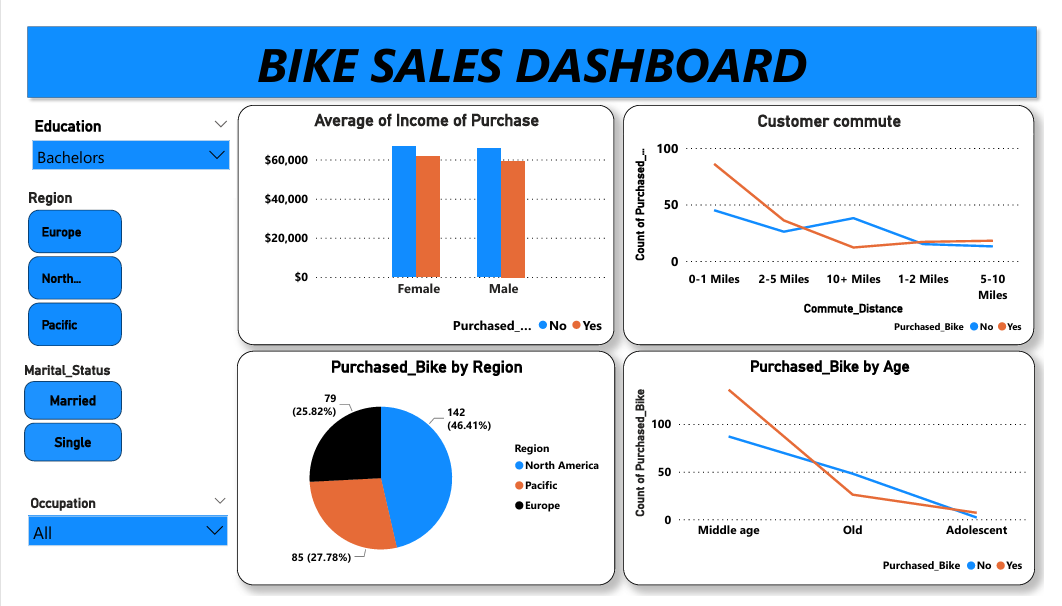

What the dashboard file says about the page in this screenshot:
{"tool":"powerbi","page":{"name":"Page 1","canvas":[1280,720],"ordinal":0},"visuals":[{"type":"shape","box":[0,0,1280,107.1],"z":0},{"type":"clusteredColumnChart","title":"Average of Income of Purchase","fields":{"Category":["stg_bike_sales (2).Gender"],"Series":["stg_bike_sales (2).Purchased_Bike"],"Y":["Avg(stg_bike_sales (2).Income)"]},"box":[272.4,106.6,471.1,300],"z":1000},{"type":"lineChart","title":"Customer commute","fields":{"Category":["stg_bike_sales.Commute_Distance"],"Y":["CountNonNull(stg_bike_sales.Purchased_Bike)"],"Series":["stg_bike_sales.Purchased_Bike"]},"box":[753.9,106.6,514.5,300],"z":2000},{"type":"pieChart","title":" Purchased_Bike by Region","fields":{"Y":["CountNonNull(stg_bike_sales.Purchased_Bike)"],"Category":["stg_bike_sales.Region"]},"box":[271,414,473,293],"z":3000},{"type":"lineChart","title":" Purchased_Bike by Age ","fields":{"Category":["stg_bike_sales.Age"],"Y":["CountNonNull(stg_bike_sales.Purchased_Bike)"],"Series":["stg_bike_sales.Purchased_Bike"]},"box":[754.3,414.3,514.3,292.9],"z":4000},{"type":"advancedSlicerVisual","fields":{"Values":["stg_bike_sales.Marital_Status"]},"box":[0,427.6,260.5,177.6],"z":5000},{"type":"slicer","fields":{"Values":["stg_bike_sales.Education"]},"box":[0,117.1,269.7,106.6],"z":6000},{"type":"advancedSlicerVisual","fields":{"Values":["stg_bike_sales.Region"]},"box":[5.3,211.8,248.7,203.9],"z":7000},{"type":"slicer","fields":{"Values":["stg_bike_sales.Occupation"]},"box":[0,589.5,269.7,105.3],"z":8000}]}

Visuals, with their boxes in screenshot pixels (x1, y1, x2, y2), scaled from the page's 1280x720 canvas onto the 1062x606 screenshot:
shape: [left=0, top=0, right=1061, bottom=90]
"Average of Income of Purchase" clusteredColumnChart: [left=226, top=90, right=617, bottom=342]
"Customer commute" lineChart: [left=626, top=90, right=1052, bottom=342]
" Purchased_Bike by Region" pieChart: [left=225, top=348, right=617, bottom=595]
" Purchased_Bike by Age " lineChart: [left=626, top=349, right=1053, bottom=595]
advancedSlicerVisual - stg_bike_sales.Marital_Status: [left=0, top=360, right=216, bottom=509]
slicer - stg_bike_sales.Education: [left=0, top=99, right=224, bottom=188]
advancedSlicerVisual - stg_bike_sales.Region: [left=4, top=178, right=211, bottom=350]
slicer - stg_bike_sales.Occupation: [left=0, top=496, right=224, bottom=585]
